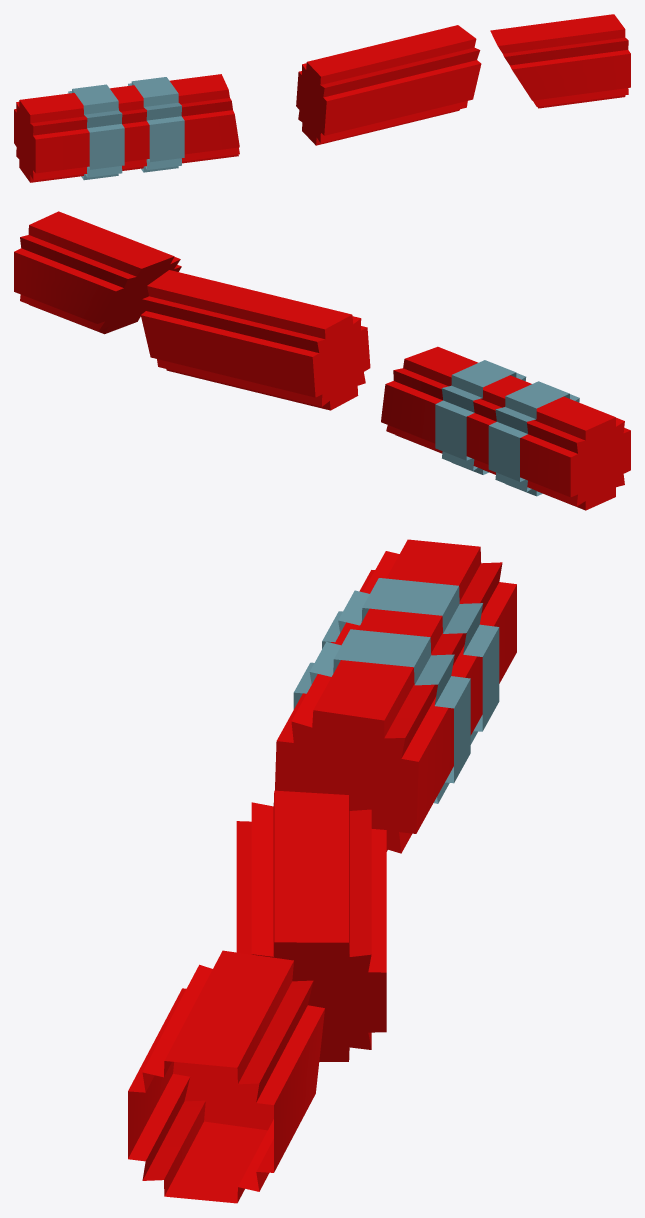
File: columna rota 4.fbx
3 renders of one model, top to bottom at view 1: azimuth 30°, elevation 25°; view 2: azimuth 150°, elevation 25°; view 3: azimuth 270°, elevation 25°, orthographic. The views are drawn at different scales.
Visible parts, largest first — view 1: columna_rota_4; view 2: columna_rota_4; view 3: columna_rota_4.
Boxes of the visible parts, bbox=[...] form: columna_rota_4: bbox=[14, 14, 630, 182]; columna_rota_4: bbox=[14, 211, 630, 510]; columna_rota_4: bbox=[128, 539, 516, 1203].
Bounding box in the file's own units: 5.17 × 0.6732 × 1.59.
